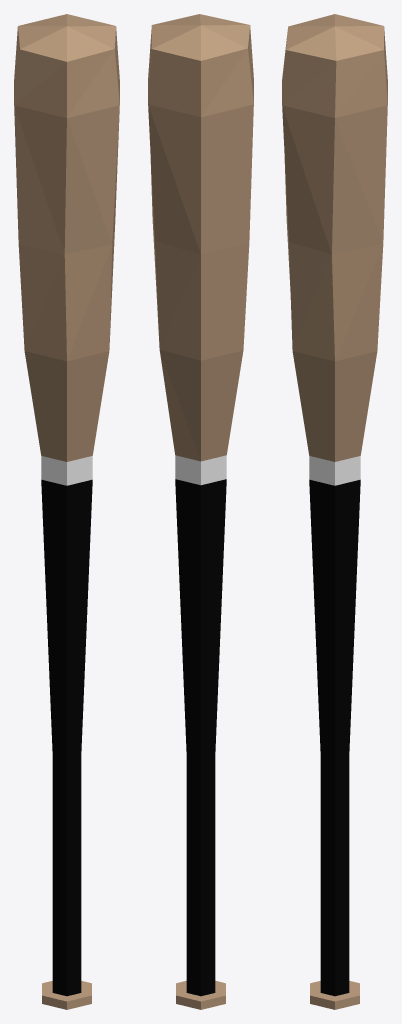
File: Baseball_bat.fbx
3 views of the same model, side by side, from view 1: azimuth 30°, elevation 25°; view 2: azimuth 150°, elevation 25°; view 3: azimuth 330°, elevation 25° (orthographic).
Visible parts, largest first — view 1: Baseball_bat; view 2: Baseball_bat; view 3: Baseball_bat.
Part boxes in pixels (x1,y1,x2,y2): Baseball_bat: (14, 14, 119, 1009); Baseball_bat: (148, 14, 253, 1009); Baseball_bat: (282, 14, 387, 1009).
Bounding box in the file's own units: 8.54 × 75.03 × 7.4.
